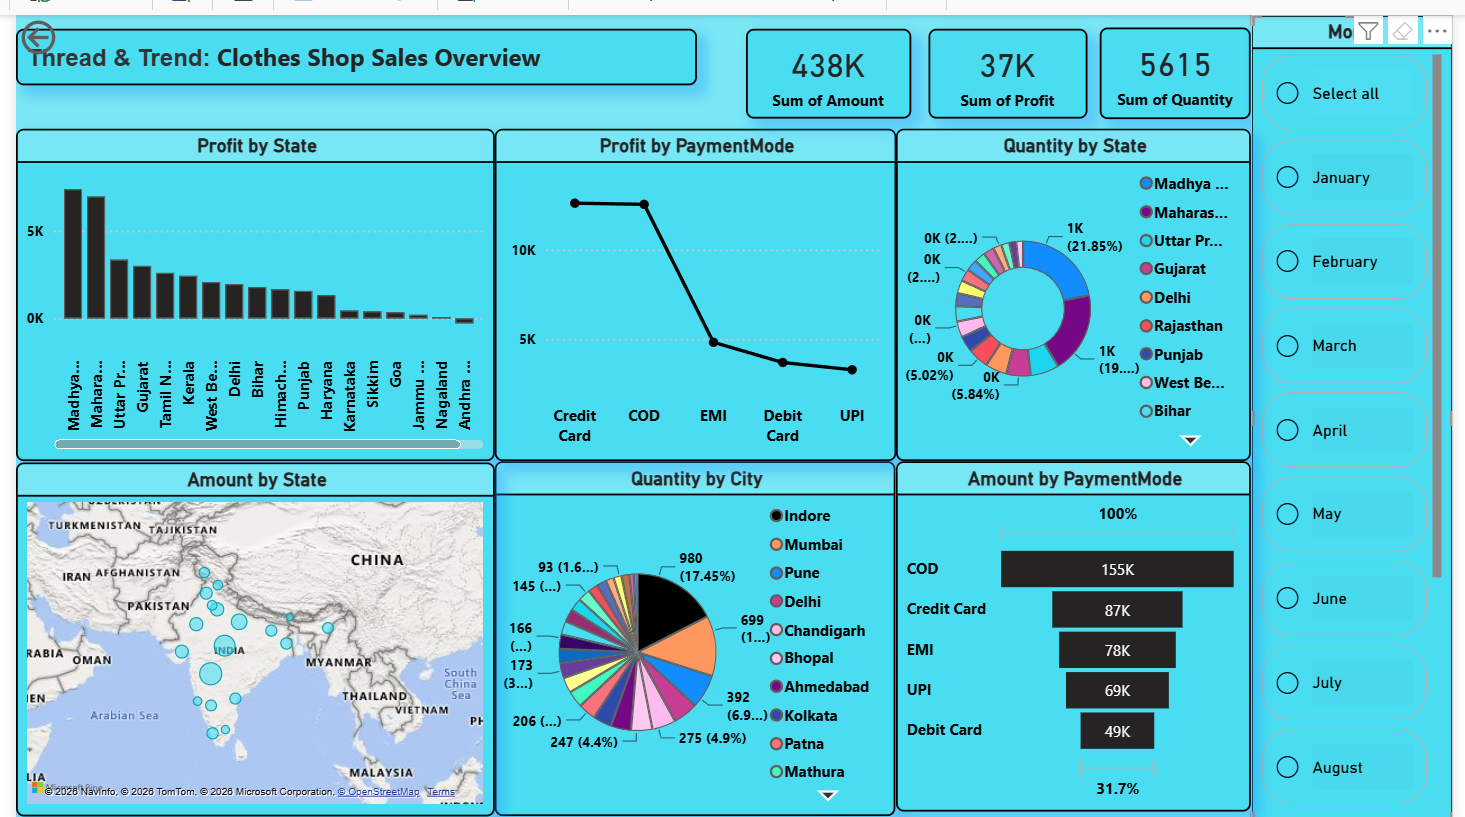

The page's visual inventory and layout, read from the dashboard file:
{"tool":"powerbi","page":{"name":"project","canvas":[1280,720],"ordinal":0},"visuals":[{"type":"textbox","box":[0,12.2,606.7,50.1],"z":0},{"type":"columnChart","title":" Profit by State","fields":{"Category":["Orders.State"],"Y":["Sum(Details.Profit)"]},"box":[0,101.3,426.3,296.1],"z":1000},{"type":"pieChart","title":" Quantity by City","fields":{"Category":["Orders.City"],"Y":["Sum(Details.Quantity)"]},"box":[426.3,397.4,357.1,316.1],"z":2000},{"type":"map","title":" Amount by State","fields":{"Category":["Orders.State"],"Size":["Sum(Details.Amount)"]},"box":[0,398.5,426.3,315],"z":3000},{"type":"actionButton","box":[0,0,100,40],"z":4000},{"type":"lineChart","title":"Profit by PaymentMode","fields":{"Category":["Details.PaymentMode"],"Y":["Sum(Details.Profit)"]},"box":[426.3,101.3,357.3,296.1],"z":5000},{"type":"card","fields":{"Values":["Sum(Details.Profit)"]},"box":[812.6,12.2,141.4,80.1],"z":6000},{"type":"card","fields":{"Values":["Sum(Details.Quantity)"]},"box":[965.1,11.1,134.7,81.3],"z":7000},{"type":"card","fields":{"Values":["Sum(Details.Amount)"]},"box":[650.1,12.2,146.9,80.1],"z":8000},{"type":"advancedSlicerVisual","fields":{"Values":["Orders.Order Date.Variation.Date Hierarchy.Month"]},"box":[1100,0,180.3,720.2],"z":9000},{"type":"donutChart","title":" Quantity by State","fields":{"Category":["Orders.State"],"Y":["Sum(Details.Quantity)"]},"box":[783.7,101.3,316.1,296.1],"z":9001},{"type":"funnel","title":" Amount by PaymentMode","fields":{"Category":["Details.PaymentMode"],"Y":["Sum(Details.Amount)"]},"box":[783.7,397.4,316.1,311.7],"z":9002}]}

Visuals, with their boxes in screenshot pixels (x1, y1, x2, y2):
textbox: (15,25,694,81)
" Profit by State" columnChart: (15,125,492,456)
" Quantity by City" pieChart: (492,456,891,809)
" Amount by State" map: (15,457,492,809)
actionButton: (15,11,127,56)
"Profit by PaymentMode" lineChart: (492,125,892,456)
card - Sum(Details.Profit): (924,25,1082,115)
card - Sum(Details.Quantity): (1094,24,1245,115)
card - Sum(Details.Amount): (742,25,907,115)
advancedSlicerVisual - Orders.Order Date.Variation.Date Hierarchy.Month: (1245,11,1447,816)
" Quantity by State" donutChart: (892,125,1245,456)
" Amount by PaymentMode" funnel: (892,456,1245,804)
